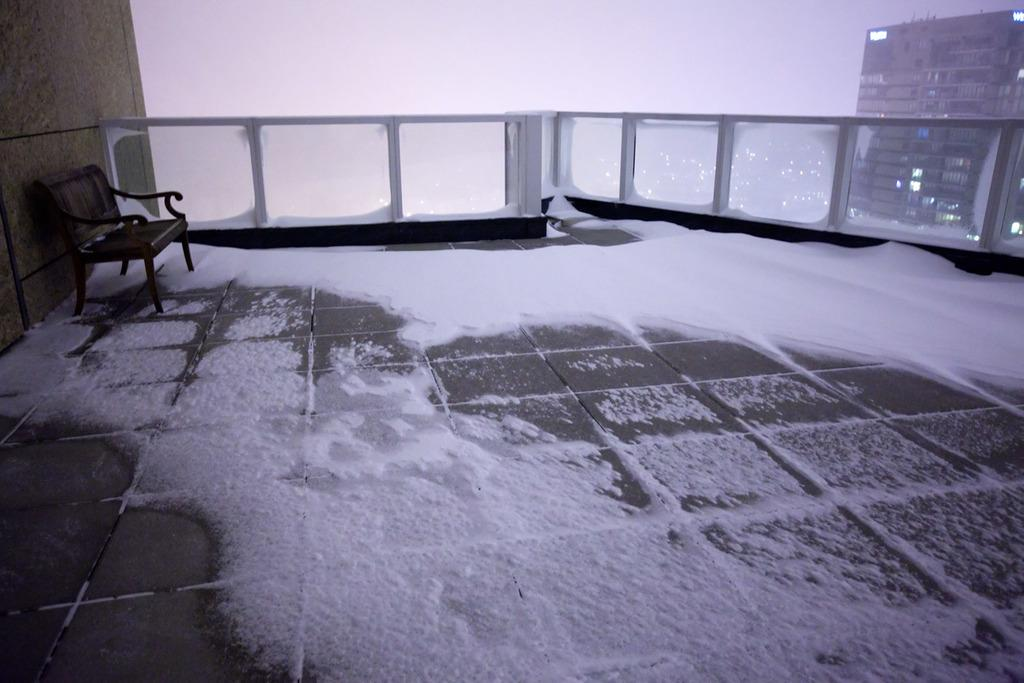Chair: (56, 152, 209, 321)
